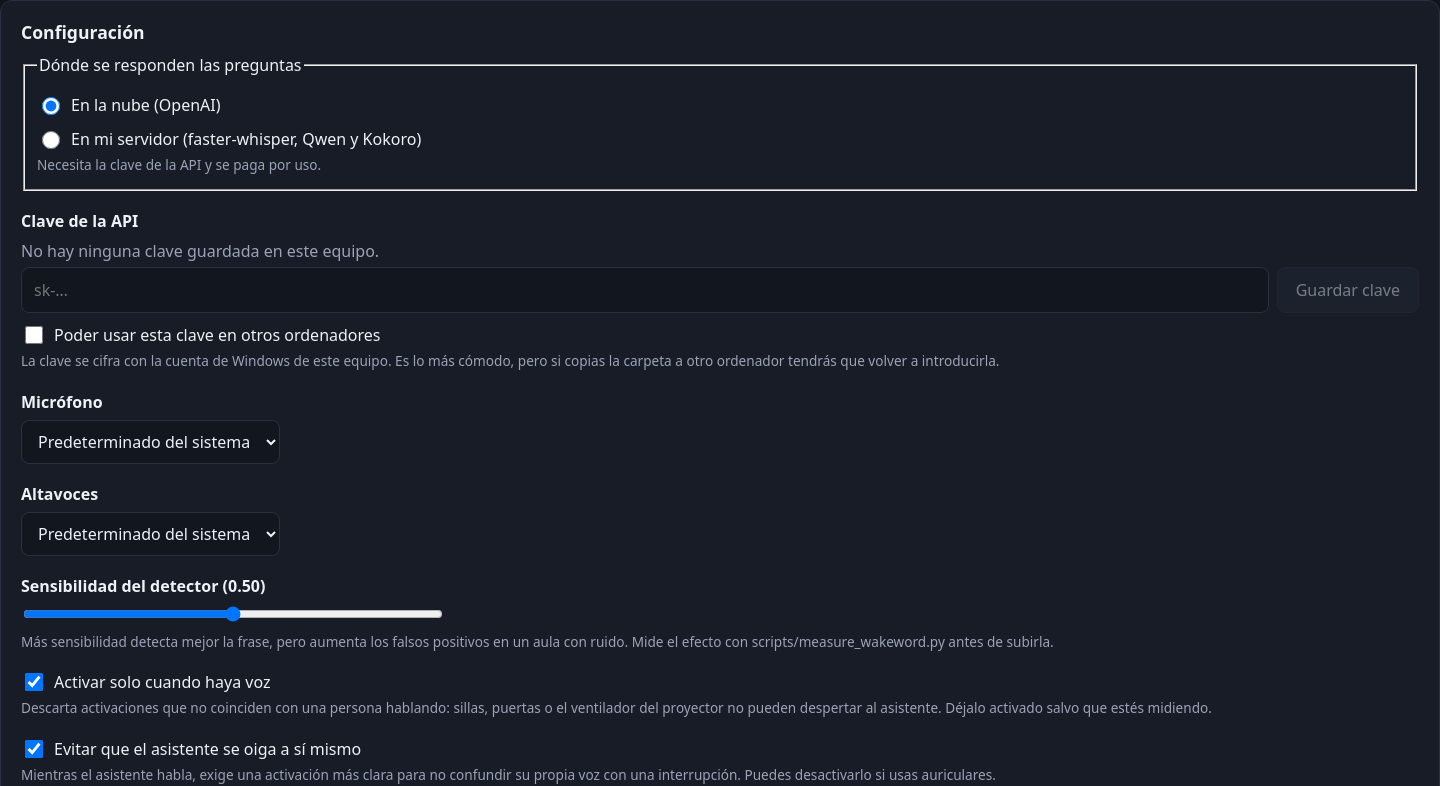
SettingsPanel, clave portátil › pide la contraseña antes de dejar guardar una clave portátil
The image size is (1440, 786).
Type "sk-portatil" into the password field labelled "Clave de la API" at (645, 290), box x1=21 y1=267 x2=1269 y2=313
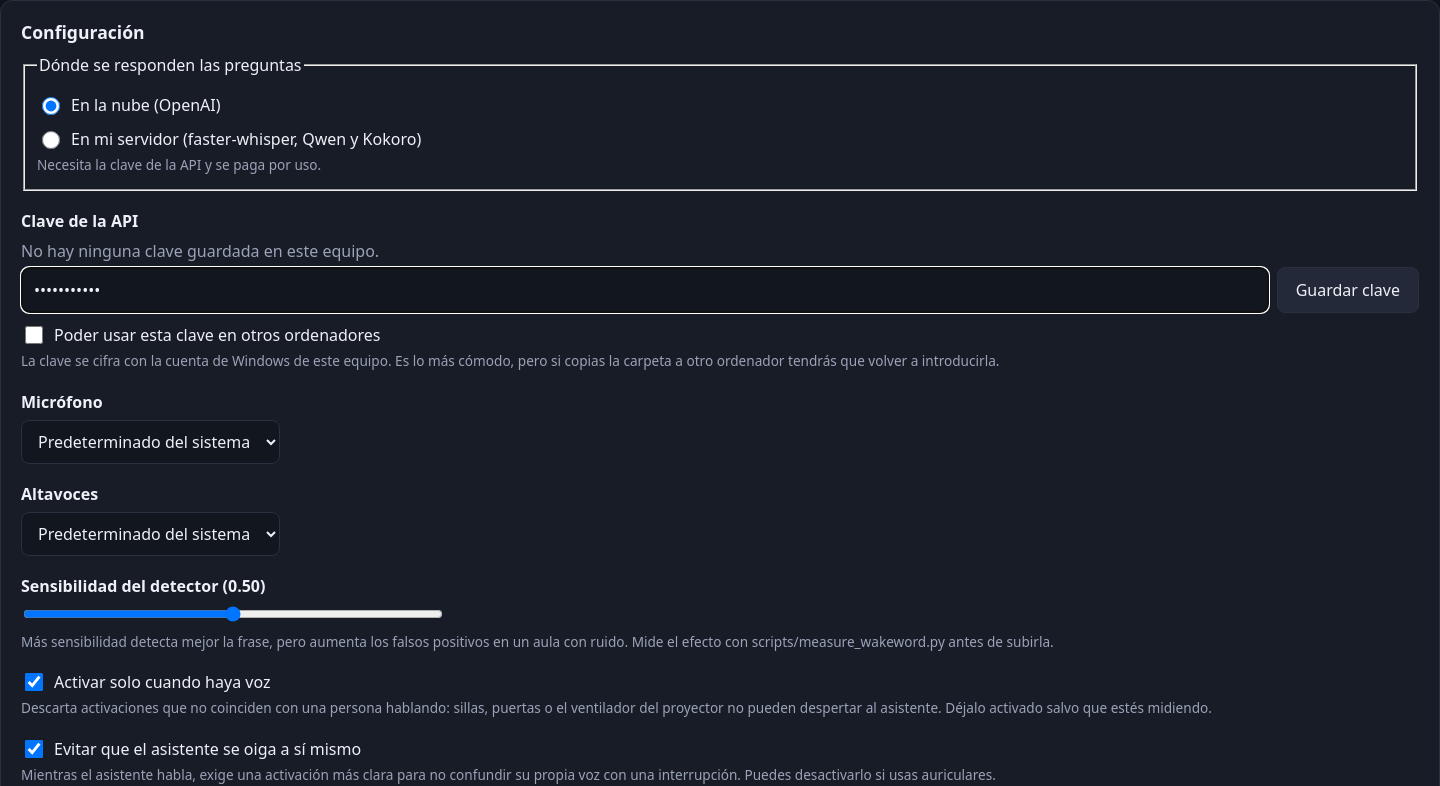
Click the checkbox labelled "Poder usar esta clave en otros ordenadores" at (34, 335), box x1=25 y1=326 x2=43 y2=344
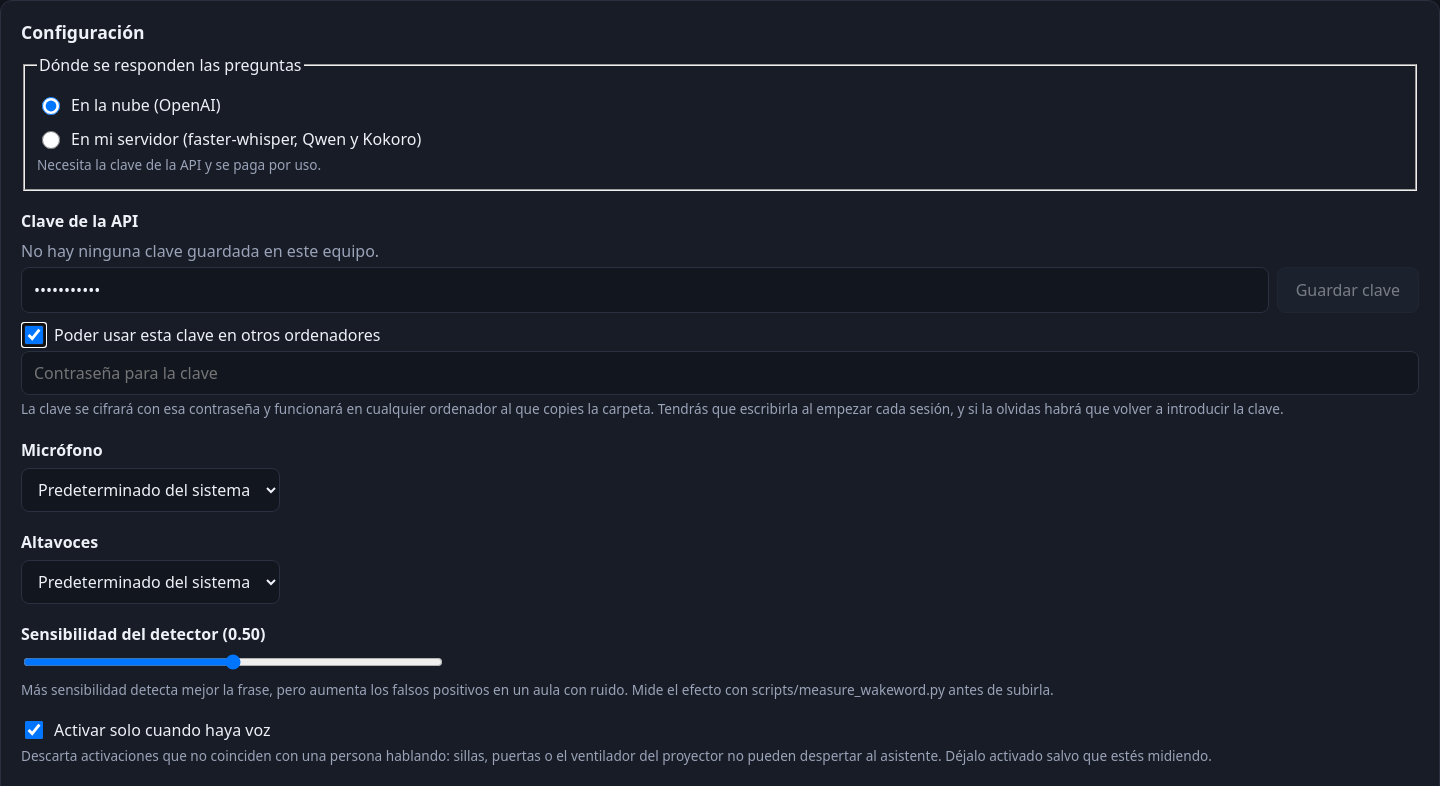
Now the button "Guardar clave" is disabled, box x1=1277 y1=267 x2=1419 y2=313
